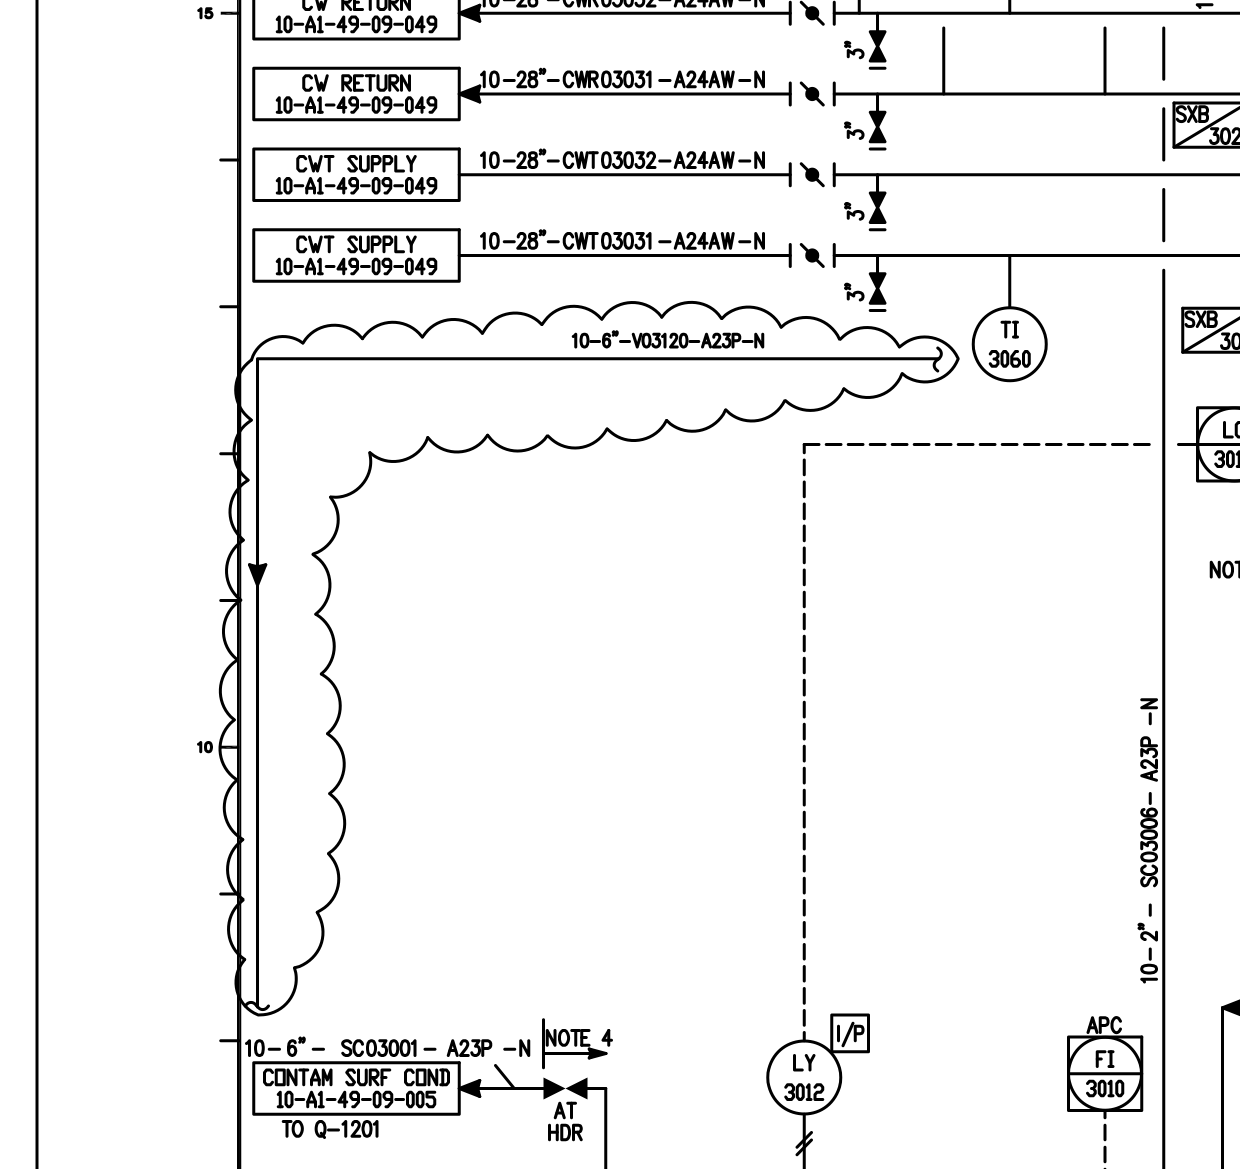Butterfly Valve: (780, 240, 846, 271), (780, 77, 846, 108), (781, 157, 847, 188), (780, 1, 846, 31)
Instrument Tag: (961, 304, 1060, 391), (1061, 1029, 1152, 1117), (758, 1035, 849, 1122)
Line Number: (1133, 692, 1161, 990), (478, 65, 771, 92), (478, 145, 771, 172), (478, 225, 771, 252), (244, 1034, 537, 1060), (565, 327, 775, 353)
